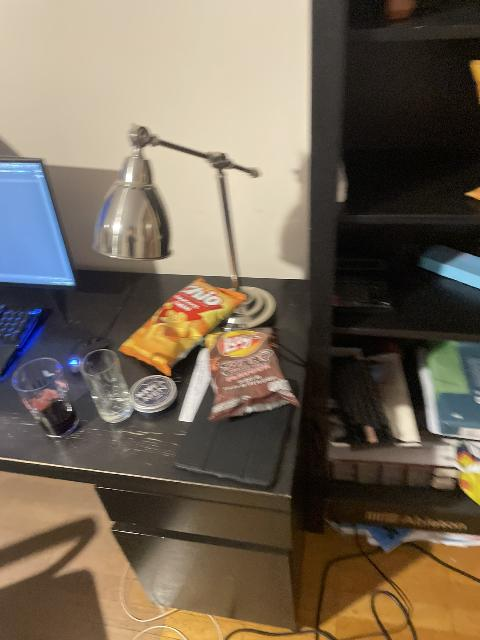Chio Cascaval 125g: (118, 277, 249, 373)
Lays Beef Grilled Ribs 125g: (206, 330, 302, 419)
